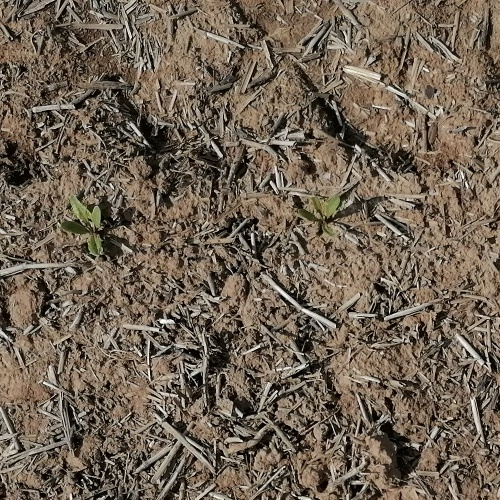beet: (62, 194, 108, 257), (299, 193, 342, 240)
